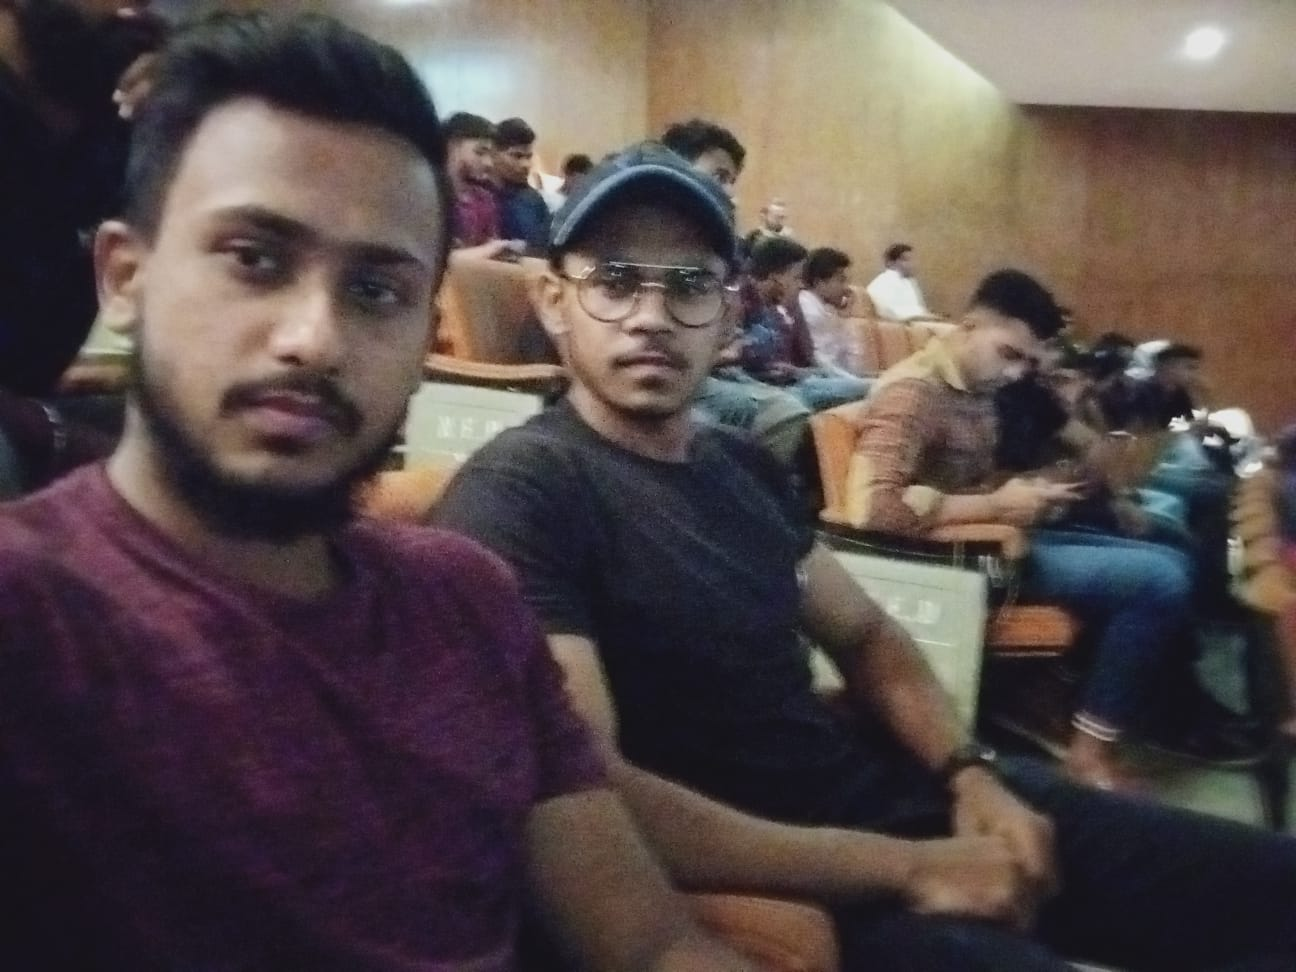NoMask: (183, 193, 426, 510), (579, 254, 722, 418)
